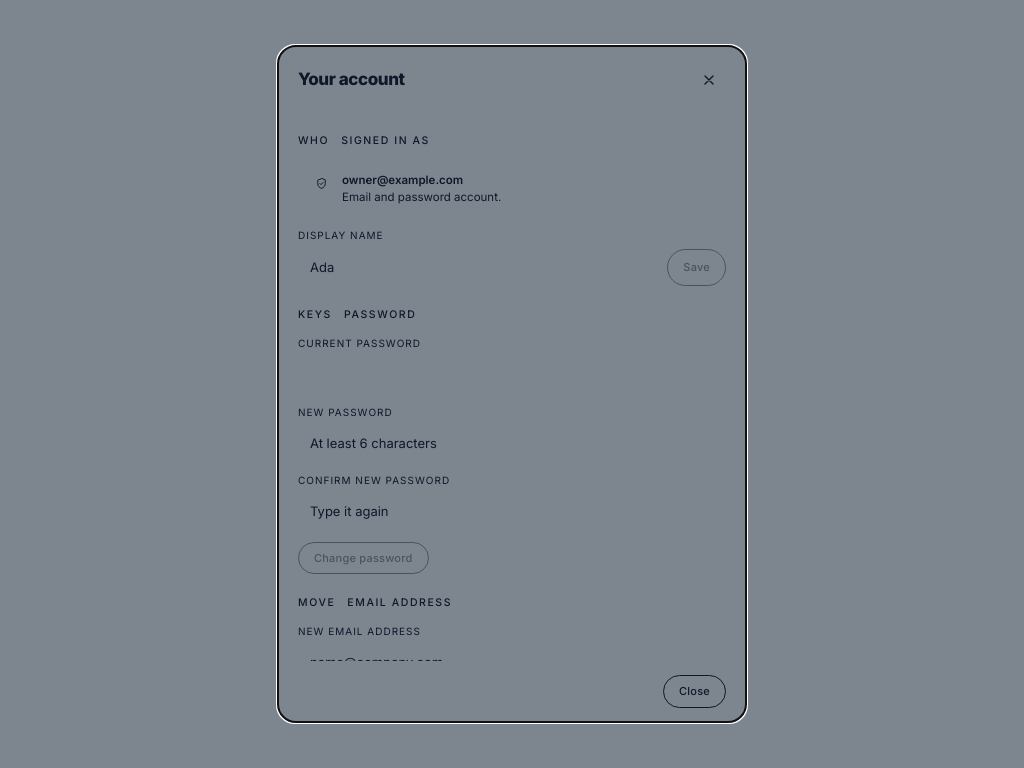
Test case: changing the password › points the confirm field at its mismatch hint
Type "new-secret" into the password field labelled "New password" at [512, 443], box [298,425,726,462]
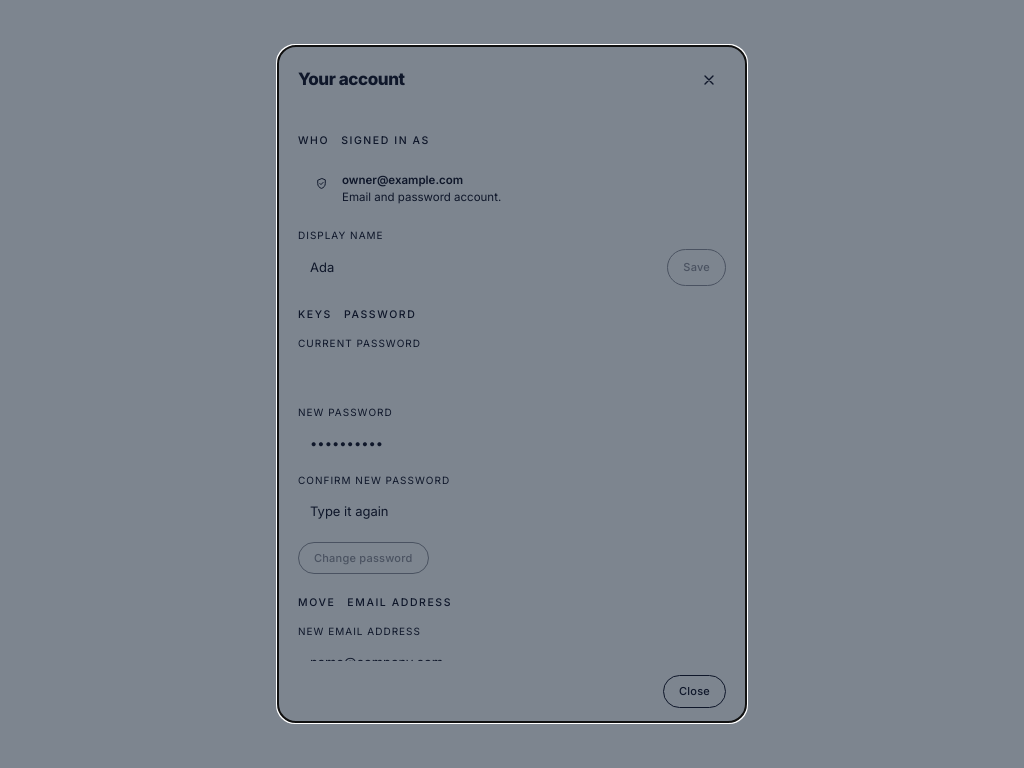
Type "new-secrat" into the password field labelled "Confirm new password" at [512, 512], box [298,493,726,531]
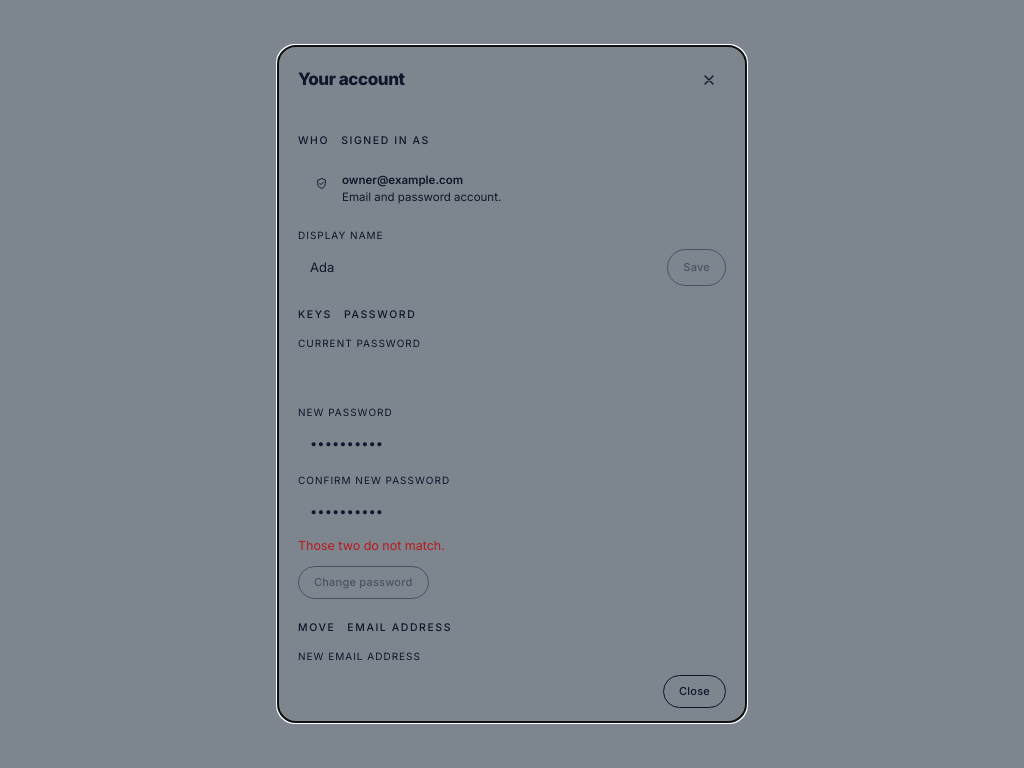
Expected: the text with id "acct-confirm-error" shows "do not match", [298,538,445,553]
